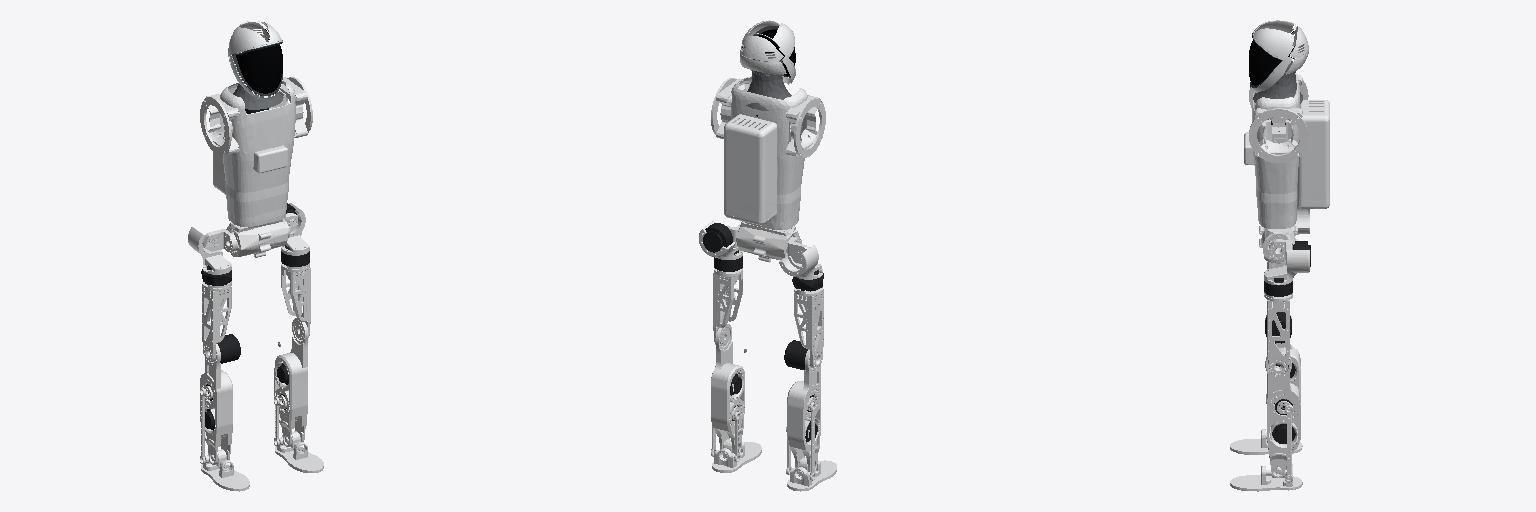
The robot description file, URDF, robot "pioneer_leg_only_humanoid":
<?xml version="1.0"?>
<!-- written by convert.py -->
<robot name="pioneer_leg_only_humanoid">
  <mujoco><compiler meshdir="." balanceinertia="true" discardvisual="false"/></mujoco>
  <link name="base_link">
    <inertial><origin xyz="0.000000 -0.000001 0.848982"/><mass value="4.6735"/><inertia ixx="0.00804196" ixy="1.47784e-13" ixz="-1.11199e-10" iyy="0.0502475" iyz="9.74084e-09" izz="0.050078"/></inertial>
    <visual><origin xyz="-0.000000 -0.000000 0.019917"/><geometry><mesh filename="../pioneer_whole_body_humanoid/meshes/base_link_0.stl" scale="0.001 0.001 0.001"/></geometry><material name="c0"><color rgba="0.925 0.929 0.937 1"/></material></visual>
    <collision><origin xyz="0.000000 -0.000003 0.844653"/><geometry><box size="0.185000 0.132389 0.125695"/></geometry></collision>
  </link>
  <link name="torso">
    <inertial><origin xyz="-0.006229 0.005308 0.264697"/><mass value="3.2862"/><inertia ixx="0.0601886" ixy="0.000120419" ixz="0.00228395" iyy="0.0677088" iyz="0.000512301" izz="0.0273147"/></inertial>
    <visual><origin xyz="-0.000000 -0.000000 -0.897000"/><geometry><mesh filename="../pioneer_whole_body_humanoid/meshes/torso_0.stl" scale="0.001 0.001 0.001"/></geometry><material name="c1"><color rgba="0.063 0.071 0.078 1"/></material></visual>
    <visual><origin xyz="-0.000000 -0.000000 -0.897000"/><geometry><mesh filename="meshes/torso_1.stl" scale="0.001 0.001 0.001"/></geometry><material name="c2"><color rgba="0.725 0.741 0.761 1"/></material></visual>
    <visual><origin xyz="-0.000000 -0.000000 -0.897000"/><geometry><mesh filename="meshes/torso_2.stl" scale="0.001 0.001 0.001"/></geometry><material name="c3"><color rgba="0.725 0.745 0.773 1"/></material></visual>
    <visual><origin xyz="-0.000000 -0.000000 -0.897000"/><geometry><mesh filename="meshes/torso_3.stl" scale="0.001 0.001 0.001"/></geometry><material name="c4"><color rgba="0.784 0.784 0.804 1"/></material></visual>
    <visual><origin xyz="-0.000000 -0.000000 -0.897000"/><geometry><mesh filename="meshes/torso_4.stl" scale="0.001 0.001 0.001"/></geometry><material name="c5"><color rgba="0.910 0.455 0.173 1"/></material></visual>
    <visual><origin xyz="-0.000000 -0.000000 -0.897000"/><geometry><mesh filename="meshes/torso_5.stl" scale="0.001 0.001 0.001"/></geometry><material name="c0"><color rgba="0.925 0.929 0.937 1"/></material></visual>
    <visual><origin xyz="-0.000000 -0.000000 -0.897000"/><geometry><mesh filename="meshes/torso_6.stl" scale="0.001 0.001 0.001"/></geometry><material name="c6"><color rgba="0.933 0.941 0.949 1"/></material></visual>
    <collision><origin xyz="0.000000 0.025199 0.244000"/><geometry><box size="0.324650 0.293938 0.488000"/></geometry></collision>
  </link>
  <link name="neck_link">
    <inertial><origin xyz="0.000054 0.003233 0.089908"/><mass value="0.1994"/><inertia ixx="0.000592885" ixy="-3.1037e-08" ixz="-2.11504e-07" iyy="0.000632686" iyz="-2.67261e-05" izz="0.000401908"/></inertial>
    <visual><origin xyz="-0.000000 -0.000000 -1.261000"/><geometry><mesh filename="../pioneer_whole_body_humanoid/meshes/neck_link_0.stl" scale="0.001 0.001 0.001"/></geometry><material name="c7"><color rgba="0.169 0.176 0.192 1"/></material></visual>
    <visual><origin xyz="-0.000000 -0.000000 -1.261000"/><geometry><mesh filename="../pioneer_whole_body_humanoid/meshes/neck_link_1.stl" scale="0.001 0.001 0.001"/></geometry><material name="c8"><color rgba="0.431 0.443 0.463 1"/></material></visual>
    <collision><origin xyz="0.000001 -0.001660 0.098473"/><geometry><box size="0.185918 0.169320 0.196946"/></geometry></collision>
  </link>
  <link name="head">
    <inertial><origin xyz="0.000111 -0.013322 0.017692"/><mass value="0.5348"/><inertia ixx="0.00204797" ixy="1.74594e-06" ixz="5.44359e-07" iyy="0.00182987" iyz="-3.94282e-05" izz="0.00167201"/></inertial>
    <visual><origin xyz="-0.000000 -0.000000 -1.457946"/><geometry><mesh filename="../pioneer_whole_body_humanoid/meshes/head_0.stl" scale="0.001 0.001 0.001"/></geometry><material name="c9"><color rgba="0.020 0.020 0.024 1"/></material></visual>
    <visual><origin xyz="-0.000000 -0.000000 -1.457946"/><geometry><mesh filename="../pioneer_whole_body_humanoid/meshes/head_1.stl" scale="0.001 0.001 0.001"/></geometry><material name="c10"><color rgba="0.043 0.047 0.055 1"/></material></visual>
    <visual><origin xyz="-0.000000 -0.000000 -1.457946"/><geometry><mesh filename="../pioneer_whole_body_humanoid/meshes/head_2.stl" scale="0.001 0.001 0.001"/></geometry><material name="c11"><color rgba="0.071 0.075 0.086 1"/></material></visual>
    <visual><origin xyz="-0.000000 -0.000000 -1.457946"/><geometry><mesh filename="../pioneer_whole_body_humanoid/meshes/head_3.stl" scale="0.001 0.001 0.001"/></geometry><material name="c12"><color rgba="0.102 0.106 0.118 1"/></material></visual>
    <visual><origin xyz="-0.000000 -0.000000 -1.457946"/><geometry><mesh filename="../pioneer_whole_body_humanoid/meshes/head_4.stl" scale="0.001 0.001 0.001"/></geometry><material name="c13"><color rgba="0.243 0.255 0.275 1"/></material></visual>
    <visual><origin xyz="-0.000000 -0.000000 -1.457946"/><geometry><mesh filename="../pioneer_whole_body_humanoid/meshes/head_5.stl" scale="0.001 0.001 0.001"/></geometry><material name="c8"><color rgba="0.431 0.443 0.463 1"/></material></visual>
    <visual><origin xyz="-0.000000 -0.000000 -1.457946"/><geometry><mesh filename="../pioneer_whole_body_humanoid/meshes/head_6.stl" scale="0.001 0.001 0.001"/></geometry><material name="c14"><color rgba="0.812 0.953 1.000 1"/></material></visual>
    <visual><origin xyz="-0.000000 -0.000000 -1.457946"/><geometry><mesh filename="../pioneer_whole_body_humanoid/meshes/head_7.stl" scale="0.001 0.001 0.001"/></geometry><material name="c15"><color rgba="0.902 0.906 0.914 1"/></material></visual>
    <visual><origin xyz="-0.000000 -0.000000 -1.457946"/><geometry><mesh filename="../pioneer_whole_body_humanoid/meshes/head_8.stl" scale="0.001 0.001 0.001"/></geometry><material name="c0"><color rgba="0.925 0.929 0.937 1"/></material></visual>
    <visual><origin xyz="-0.000000 -0.000000 -1.457946"/><geometry><mesh filename="../pioneer_whole_body_humanoid/meshes/head_9.stl" scale="0.001 0.001 0.001"/></geometry><material name="c16"><color rgba="0.945 0.949 0.957 1"/></material></visual>
    <visual><origin xyz="-0.000000 -0.000000 -1.457946"/><geometry><mesh filename="../pioneer_whole_body_humanoid/meshes/head_10.stl" scale="0.001 0.001 0.001"/></geometry><material name="c17"><color rgba="0.957 0.961 0.965 1"/></material></visual>
    <collision><origin xyz="0.000003 0.000371 0.036406"/><geometry><box size="0.178958 0.201527 0.242703"/></geometry></collision>
  </link>
  <link name="l_hip_pitch_link">
    <inertial><origin xyz="0.057476 0.057049 -0.000058"/><mass value="1.3125"/><inertia ixx="0.0019289" ixy="-0.000668473" ixz="2.08971e-06" iyy="0.00171145" iyz="8.59721e-06" izz="0.00241398"/></inertial>
    <visual><origin xyz="-0.084000 -0.000000 -0.828000"/><geometry><mesh filename="../pioneer_whole_body_humanoid/meshes/l_hip_pitch_link_0.stl" scale="0.001 0.001 0.001"/></geometry><material name="c7"><color rgba="0.169 0.176 0.192 1"/></material></visual>
    <visual><origin xyz="-0.084000 -0.000000 -0.828000"/><geometry><mesh filename="../pioneer_whole_body_humanoid/meshes/l_hip_pitch_link_1.stl" scale="0.001 0.001 0.001"/></geometry><material name="c0"><color rgba="0.925 0.929 0.937 1"/></material></visual>
    <collision><origin xyz="0.059487 0.038047 0.000083"/><geometry><box size="0.115974 0.140100 0.097948"/></geometry></collision>
  </link>
  <link name="l_hip_roll_link">
    <inertial><origin xyz="0.003259 0.018948 -0.076596"/><mass value="1.5837"/><inertia ixx="0.00469709" ixy="-0.000283231" ixz="-0.000542205" iyy="0.00361983" iyz="-0.0015051" izz="0.00337297"/></inertial>
    <visual><origin xyz="-0.153000 -0.000000 -0.828000"/><geometry><mesh filename="../pioneer_whole_body_humanoid/meshes/l_hip_roll_link_0.stl" scale="0.001 0.001 0.001"/></geometry><material name="c7"><color rgba="0.169 0.176 0.192 1"/></material></visual>
    <visual><origin xyz="-0.153000 -0.000000 -0.828000"/><geometry><mesh filename="../pioneer_whole_body_humanoid/meshes/l_hip_roll_link_1.stl" scale="0.001 0.001 0.001"/></geometry><material name="c0"><color rgba="0.925 0.929 0.937 1"/></material></visual>
    <collision><origin xyz="0.000463 0.027948 -0.048045"/><geometry><box size="0.111070 0.153898 0.176143"/></geometry></collision>
  </link>
  <link name="l_thigh">
    <inertial><origin xyz="-0.008506 -0.000412 -0.180456"/><mass value="2.8299"/><inertia ixx="0.0312997" ixy="1.91582e-05" ixz="-0.00328772" iyy="0.0321408" iyz="0.000103505" izz="0.00415735"/></inertial>
    <visual><origin xyz="-0.152000 -0.000000 -0.697500"/><geometry><mesh filename="../pioneer_whole_body_humanoid/meshes/l_thigh_0.stl" scale="0.001 0.001 0.001"/></geometry><material name="c7"><color rgba="0.169 0.176 0.192 1"/></material></visual>
    <visual><origin xyz="-0.152000 -0.000000 -0.697500"/><geometry><mesh filename="../pioneer_whole_body_humanoid/meshes/l_thigh_1.stl" scale="0.001 0.001 0.001"/></geometry><material name="c18"><color rgba="0.604 0.620 0.643 1"/></material></visual>
    <visual><origin xyz="-0.152000 -0.000000 -0.697500"/><geometry><mesh filename="../pioneer_whole_body_humanoid/meshes/l_thigh_2.stl" scale="0.001 0.001 0.001"/></geometry><material name="c0"><color rgba="0.925 0.929 0.937 1"/></material></visual>
    <collision><origin xyz="-0.009400 -0.000011 -0.152017"/><geometry><box size="0.117800 0.097985 0.308800"/></geometry></collision>
  </link>
  <link name="l_shank_foot">
    <inertial><origin xyz="-0.005932 0.015397 -0.208131"/><mass value="4.8588"/><inertia ixx="0.0374186" ixy="9.03447e-05" ixz="-0.00131655" iyy="0.034962" iyz="0.000399446" izz="0.00689743"/></inertial>
    <visual><origin xyz="-0.152000 -0.000000 -0.436000"/><geometry><mesh filename="../pioneer_whole_body_humanoid/meshes/l_shank_foot_0.stl" scale="0.001 0.001 0.001"/></geometry><material name="c7"><color rgba="0.169 0.176 0.192 1"/></material></visual>
    <visual><origin xyz="-0.152000 -0.000000 -0.436000"/><geometry><mesh filename="../pioneer_whole_body_humanoid/meshes/l_shank_foot_1.stl" scale="0.001 0.001 0.001"/></geometry><material name="c18"><color rgba="0.604 0.620 0.643 1"/></material></visual>
    <visual><origin xyz="-0.152000 -0.000000 -0.436000"/><geometry><mesh filename="../pioneer_whole_body_humanoid/meshes/l_shank_foot_2.stl" scale="0.001 0.001 0.001"/></geometry><material name="c0"><color rgba="0.925 0.929 0.937 1"/></material></visual>
    <collision><origin xyz="-0.012150 0.015253 -0.190467"/><geometry><box size="0.107700 0.120487 0.471100"/></geometry></collision>
  </link>
  <link name="l_ankle_cross">
    <inertial><origin xyz="0.000000 0.000000 0.000000"/><mass value="0.1000"/><inertia ixx="2.83333e-05" ixy="0" ixz="0" iyy="2.83333e-05" iyz="0" izz="4.16667e-05"/></inertial>
    <collision><origin xyz="0.000000 0.000000 0.000000"/><geometry><box size="0.010000 0.010000 0.010000"/></geometry></collision>
  </link>
  <link name="l_foot">
    <inertial><origin xyz="-0.008800 -0.014819 -0.022493"/><mass value="1.0778"/><inertia ixx="0.00393346" ixy="1.78023e-08" ixz="1.89964e-09" iyy="0.00109377" iyz="-0.000437595" izz="0.00394753"/></inertial>
    <visual><origin xyz="-0.153000 0.007000 -0.024500"/><geometry><mesh filename="../pioneer_whole_body_humanoid/meshes/l_foot_0.stl" scale="0.001 0.001 0.001"/></geometry><material name="c0"><color rgba="0.925 0.929 0.937 1"/></material></visual>
    <collision><origin xyz="-0.008800 -0.034625 -0.002217"/><geometry><box size="0.109372 0.243131 0.084400"/></geometry></collision>
  </link>
  <link name="r_hip_pitch_link">
    <inertial><origin xyz="-0.057476 0.057049 -0.000058"/><mass value="1.3125"/><inertia ixx="0.0019289" ixy="0.000668473" ixz="-2.08971e-06" iyy="0.00171145" iyz="8.59721e-06" izz="0.00241398"/></inertial>
    <visual><origin xyz="0.084000 -0.000000 -0.828000"/><geometry><mesh filename="../pioneer_whole_body_humanoid/meshes/r_hip_pitch_link_0.stl" scale="0.001 0.001 0.001"/></geometry><material name="c7"><color rgba="0.169 0.176 0.192 1"/></material></visual>
    <visual><origin xyz="0.084000 -0.000000 -0.828000"/><geometry><mesh filename="../pioneer_whole_body_humanoid/meshes/r_hip_pitch_link_1.stl" scale="0.001 0.001 0.001"/></geometry><material name="c0"><color rgba="0.925 0.929 0.937 1"/></material></visual>
    <collision><origin xyz="-0.059487 0.038047 0.000083"/><geometry><box size="0.115974 0.140100 0.097948"/></geometry></collision>
  </link>
  <link name="r_hip_roll_link">
    <inertial><origin xyz="-0.003376 0.018831 -0.076596"/><mass value="1.5837"/><inertia ixx="0.00469933" ixy="0.000280467" ixz="0.000541843" iyy="0.00362316" iyz="-0.00150546" izz="0.00337853"/></inertial>
    <visual><origin xyz="0.153000 -0.000000 -0.828000"/><geometry><mesh filename="../pioneer_whole_body_humanoid/meshes/r_hip_roll_link_0.stl" scale="0.001 0.001 0.001"/></geometry><material name="c7"><color rgba="0.169 0.176 0.192 1"/></material></visual>
    <visual><origin xyz="0.153000 -0.000000 -0.828000"/><geometry><mesh filename="../pioneer_whole_body_humanoid/meshes/r_hip_roll_link_1.stl" scale="0.001 0.001 0.001"/></geometry><material name="c0"><color rgba="0.925 0.929 0.937 1"/></material></visual>
    <collision><origin xyz="-0.000463 0.027948 -0.048045"/><geometry><box size="0.111070 0.153898 0.176143"/></geometry></collision>
  </link>
  <link name="r_thigh">
    <inertial><origin xyz="0.008506 -0.000412 -0.180456"/><mass value="2.8299"/><inertia ixx="0.0312997" ixy="-1.91582e-05" ixz="0.00328772" iyy="0.0321408" iyz="0.000103505" izz="0.00415735"/></inertial>
    <visual><origin xyz="0.152000 -0.000000 -0.697500"/><geometry><mesh filename="../pioneer_whole_body_humanoid/meshes/r_thigh_0.stl" scale="0.001 0.001 0.001"/></geometry><material name="c7"><color rgba="0.169 0.176 0.192 1"/></material></visual>
    <visual><origin xyz="0.152000 -0.000000 -0.697500"/><geometry><mesh filename="../pioneer_whole_body_humanoid/meshes/r_thigh_1.stl" scale="0.001 0.001 0.001"/></geometry><material name="c18"><color rgba="0.604 0.620 0.643 1"/></material></visual>
    <visual><origin xyz="0.152000 -0.000000 -0.697500"/><geometry><mesh filename="../pioneer_whole_body_humanoid/meshes/r_thigh_2.stl" scale="0.001 0.001 0.001"/></geometry><material name="c0"><color rgba="0.925 0.929 0.937 1"/></material></visual>
    <collision><origin xyz="0.009400 -0.000011 -0.152017"/><geometry><box size="0.117800 0.097985 0.308800"/></geometry></collision>
  </link>
  <link name="r_shank_foot">
    <inertial><origin xyz="0.005932 0.015397 -0.208131"/><mass value="4.8588"/><inertia ixx="0.0374186" ixy="-9.03447e-05" ixz="0.00131655" iyy="0.034962" iyz="0.000399446" izz="0.00689743"/></inertial>
    <visual><origin xyz="0.152000 -0.000000 -0.436000"/><geometry><mesh filename="../pioneer_whole_body_humanoid/meshes/r_shank_foot_0.stl" scale="0.001 0.001 0.001"/></geometry><material name="c7"><color rgba="0.169 0.176 0.192 1"/></material></visual>
    <visual><origin xyz="0.152000 -0.000000 -0.436000"/><geometry><mesh filename="../pioneer_whole_body_humanoid/meshes/r_shank_foot_1.stl" scale="0.001 0.001 0.001"/></geometry><material name="c18"><color rgba="0.604 0.620 0.643 1"/></material></visual>
    <visual><origin xyz="0.152000 -0.000000 -0.436000"/><geometry><mesh filename="../pioneer_whole_body_humanoid/meshes/r_shank_foot_2.stl" scale="0.001 0.001 0.001"/></geometry><material name="c0"><color rgba="0.925 0.929 0.937 1"/></material></visual>
    <collision><origin xyz="0.012150 0.015253 -0.190467"/><geometry><box size="0.107700 0.120487 0.471100"/></geometry></collision>
  </link>
  <link name="r_ankle_cross">
    <inertial><origin xyz="0.000000 0.000000 0.000000"/><mass value="0.1000"/><inertia ixx="2.83333e-05" ixy="0" ixz="0" iyy="2.83333e-05" iyz="0" izz="4.16667e-05"/></inertial>
    <collision><origin xyz="0.000000 0.000000 0.000000"/><geometry><box size="0.010000 0.010000 0.010000"/></geometry></collision>
  </link>
  <link name="r_foot">
    <inertial><origin xyz="0.008800 -0.014819 -0.022493"/><mass value="1.0778"/><inertia ixx="0.00393346" ixy="-1.78225e-08" ixz="-1.90681e-09" iyy="0.00109377" iyz="-0.000437597" izz="0.00394754"/></inertial>
    <visual><origin xyz="0.153000 0.007000 -0.024500"/><geometry><mesh filename="../pioneer_whole_body_humanoid/meshes/r_foot_0.stl" scale="0.001 0.001 0.001"/></geometry><material name="c0"><color rgba="0.925 0.929 0.937 1"/></material></visual>
    <collision><origin xyz="0.008800 -0.034625 -0.002217"/><geometry><box size="0.109372 0.243131 0.084400"/></geometry></collision>
  </link>
  <joint name="waist_yaw" type="fixed">
    <parent link="base_link"/><child link="torso"/>
    <origin xyz="0.000000 0.000000 0.916917"/>
  </joint>
  <joint name="neck_yaw" type="fixed">
    <parent link="torso"/><child link="neck_link"/>
    <origin xyz="0.000000 0.000000 0.364000"/>
  </joint>
  <joint name="neck_pitch" type="fixed">
    <parent link="neck_link"/><child link="head"/>
    <origin xyz="0.000000 0.000000 0.196946"/>
  </joint>
  <joint name="Hip_F_L" type="revolute">
    <parent link="base_link"/><child link="l_hip_pitch_link"/>
    <origin xyz="0.084000 0.000000 0.847917"/><axis xyz="-1.000000 0.000000 0.000000"/>
    <limit lower="-0.3491" upper="1.5708" effort="222" velocity="3.6652"/>
  </joint>
  <joint name="Hip_A_L" type="revolute">
    <parent link="l_hip_pitch_link"/><child link="l_hip_roll_link"/>
    <origin xyz="0.069000 0.000000 0.000000"/><axis xyz="0.000000 -1.000000 0.000000"/>
    <limit lower="-0.1745" upper="1.0472" effort="120" velocity="20.944"/>
  </joint>
  <joint name="Hip_R_L" type="revolute">
    <parent link="l_hip_roll_link"/><child link="l_thigh"/>
    <origin xyz="-0.001000 0.000000 -0.130500"/><axis xyz="0.000000 0.000000 1.000000"/>
    <limit lower="-0.5236" upper="1.5708" effort="60" velocity="20.42"/>
  </joint>
  <joint name="Knee_L" type="revolute">
    <parent link="l_thigh"/><child link="l_shank_foot"/>
    <origin xyz="0.000000 0.000000 -0.261500"/><axis xyz="-1.000000 0.000000 0.000000"/>
    <limit lower="-2.4435" upper="0.0000" effort="222" velocity="3.6652"/>
  </joint>
  <joint name="Ankle_P_L" type="revolute">
    <parent link="l_shank_foot"/><child link="l_ankle_cross"/>
    <origin xyz="0.001000 -0.007000 -0.393600"/><axis xyz="1.000000 0.000000 0.000000"/>
    <limit lower="-0.5236" upper="0.8727" effort="60" velocity="20.42"/>
  </joint>
  <joint name="Ankle_R_L" type="revolute">
    <parent link="l_ankle_cross"/><child link="l_foot"/>
    <origin xyz="0.000000 0.000000 -0.017900"/><axis xyz="0.000000 1.000000 0.000000"/>
    <limit lower="-0.2618" upper="0.2618" effort="60" velocity="20.42"/>
  </joint>
  <joint name="Hip_F_R" type="revolute">
    <parent link="base_link"/><child link="r_hip_pitch_link"/>
    <origin xyz="-0.084000 0.000000 0.847917"/><axis xyz="-1.000000 0.000000 0.000000"/>
    <limit lower="-0.3491" upper="1.5708" effort="222" velocity="3.6652"/>
  </joint>
  <joint name="Hip_A_R" type="revolute">
    <parent link="r_hip_pitch_link"/><child link="r_hip_roll_link"/>
    <origin xyz="-0.069000 0.000000 0.000000"/><axis xyz="0.000000 1.000000 0.000000"/>
    <limit lower="-0.1745" upper="1.0472" effort="120" velocity="20.944"/>
  </joint>
  <joint name="Hip_R_R" type="revolute">
    <parent link="r_hip_roll_link"/><child link="r_thigh"/>
    <origin xyz="0.001000 0.000000 -0.130500"/><axis xyz="0.000000 0.000000 -1.000000"/>
    <limit lower="-0.5236" upper="1.5708" effort="60" velocity="20.42"/>
  </joint>
  <joint name="Knee_R" type="revolute">
    <parent link="r_thigh"/><child link="r_shank_foot"/>
    <origin xyz="0.000000 0.000000 -0.261500"/><axis xyz="-1.000000 0.000000 0.000000"/>
    <limit lower="-2.4435" upper="0.0000" effort="222" velocity="3.6652"/>
  </joint>
  <joint name="Ankle_P_R" type="revolute">
    <parent link="r_shank_foot"/><child link="r_ankle_cross"/>
    <origin xyz="-0.001000 -0.007000 -0.393600"/><axis xyz="1.000000 0.000000 0.000000"/>
    <limit lower="-0.5236" upper="0.8727" effort="60" velocity="20.42"/>
  </joint>
  <joint name="Ankle_R_R" type="revolute">
    <parent link="r_ankle_cross"/><child link="r_foot"/>
    <origin xyz="0.000000 0.000000 -0.017900"/><axis xyz="0.000000 -1.000000 0.000000"/>
    <limit lower="-0.2618" upper="0.2618" effort="60" velocity="20.42"/>
  </joint>
</robot>

--- Render facts (derived) ---
The picture shows the robot from 3 angles, left to right: view 1: azimuth 30°, elevation 25°; view 2: azimuth 150°, elevation 25°; view 3: azimuth 270°, elevation 25°; orthographic projection.
Model pioneer_leg_only_humanoid with 16 links and 15 joints (12 revolute, 3 fixed), rooted at base_link, posed all joints at 0.
Visible links, largest first — view 1: torso, head, l_shank_foot, r_shank_foot, r_thigh, l_thigh, base_link, r_hip_roll_link, l_foot, r_foot, l_hip_roll_link, r_hip_pitch_link (+1 smaller); view 2: torso, l_shank_foot, r_shank_foot, head, r_thigh, base_link, l_thigh, r_hip_roll_link, l_foot, r_foot, neck_link, l_hip_roll_link (+1 smaller); view 3: torso, head, l_shank_foot, l_thigh, l_hip_roll_link, l_foot, neck_link, base_link, r_foot, l_hip_pitch_link.
Link boxes in pixels (x1,y1,x2,y2): torso: [200, 77, 312, 226]; head: [228, 21, 282, 99]; l_shank_foot: [274, 318, 308, 446]; r_shank_foot: [200, 344, 232, 464]; r_thigh: [202, 281, 240, 363]; l_thigh: [281, 262, 310, 339]; base_link: [226, 219, 287, 257]; r_hip_roll_link: [188, 227, 231, 285]; l_foot: [275, 431, 323, 472]; r_foot: [201, 449, 249, 491]; l_hip_roll_link: [281, 203, 309, 266]; r_hip_pitch_link: [203, 229, 237, 251]; torso: [711, 76, 825, 229]; l_shank_foot: [711, 324, 746, 461]; r_shank_foot: [786, 350, 820, 480]; head: [740, 20, 795, 84]; r_thigh: [784, 287, 823, 369]; base_link: [736, 222, 799, 262]; l_thigh: [713, 268, 742, 346]; r_hip_roll_link: [779, 245, 823, 291]; l_foot: [712, 439, 761, 472]; r_foot: [787, 457, 836, 491]; neck_link: [746, 70, 791, 116]; l_hip_roll_link: [699, 220, 742, 271]; torso: [1244, 73, 1329, 228]; head: [1249, 20, 1308, 92]; l_shank_foot: [1265, 352, 1300, 482]; l_thigh: [1264, 292, 1292, 374]; l_hip_roll_link: [1264, 250, 1309, 296]; l_foot: [1230, 466, 1302, 491]; neck_link: [1253, 71, 1302, 124]; base_link: [1259, 225, 1297, 262]; r_foot: [1230, 429, 1302, 454]; l_hip_pitch_link: [1269, 239, 1310, 266].
Bounding box of the posed robot: 0.4181 × 0.3354 × 1.63 m (x, y, z).
35 mesh visuals loaded from 43 distinct referenced files (35 binary STL); not drawn: 8 (reference not matched to a file when rendering).
